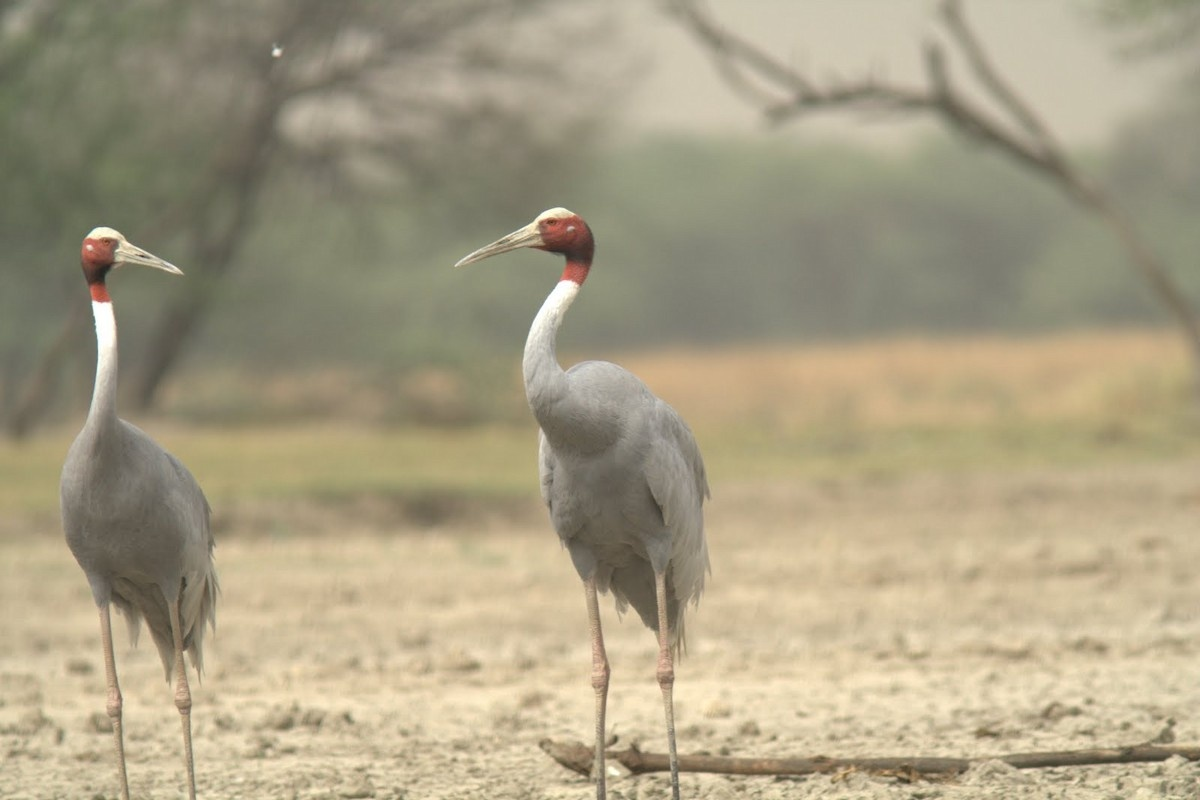crane: (449, 193, 779, 800), (39, 220, 199, 800)
